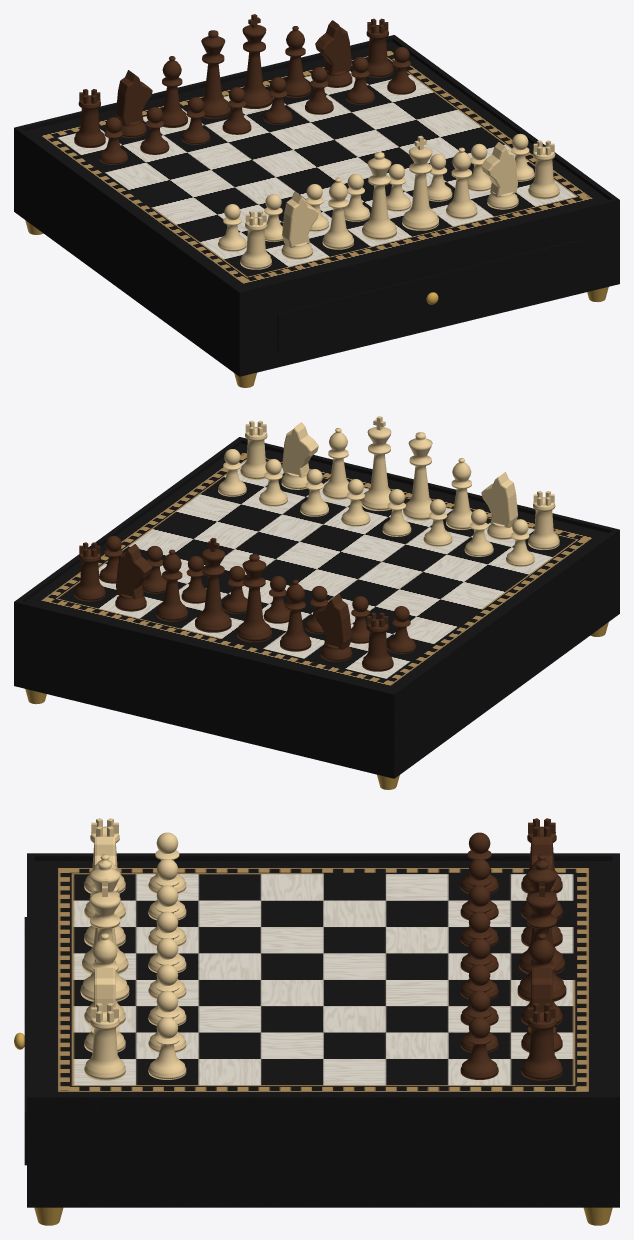
The model's file is philidor-3d-olivier-laque-38-v2.glb.
3 views of the same model, one above another, from view 1: azimuth 30°, elevation 25°; view 2: azimuth 150°, elevation 25°; view 3: azimuth 270°, elevation 25° (orthographic). The views are drawn at different scales.
Visible parts, largest first — view 1: olivier-laque-38; view 2: olivier-laque-38; view 3: olivier-laque-38.
Boxes of the visible parts, x1,y1,x2,y2 form: olivier-laque-38: [14, 14, 619, 387]; olivier-laque-38: [14, 416, 619, 789]; olivier-laque-38: [14, 818, 619, 1225].
Size of what is drawn, in the model's own units: 0.37 by 0.173 by 0.3884.
6 materials, 3 textured.
